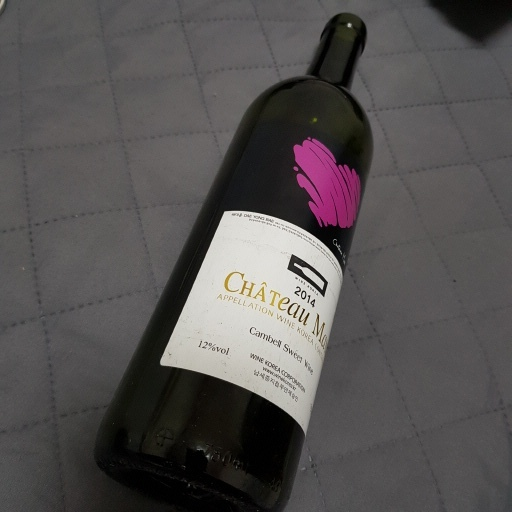Glass_2: (90, 12, 378, 512)
